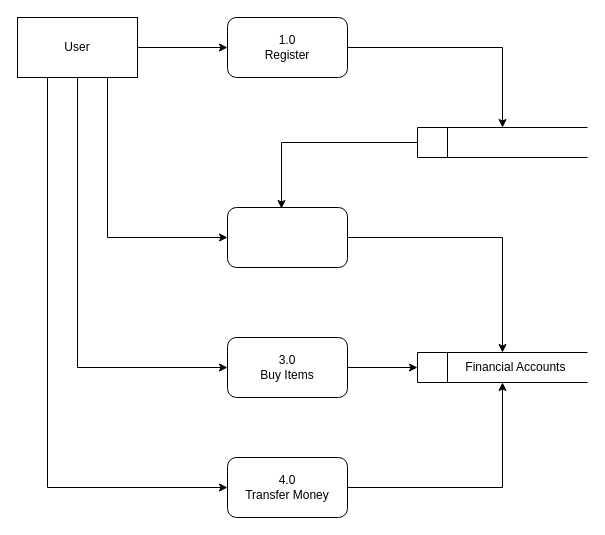
Image size: 605x535. Some labels were removed from this diagram. The box of each missing label's shape, as (x1, y1, x2, y2) in pixels:
2.0 Add Money: (226, 206, 348, 268)
Accounts: (416, 126, 588, 158)
